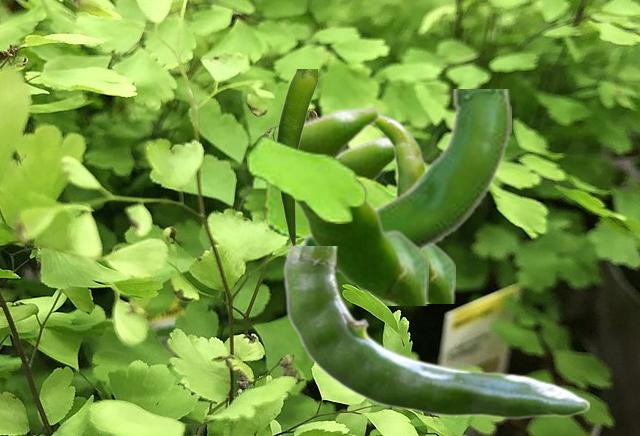green_chili: (283, 246, 588, 418), (300, 89, 510, 272), (297, 106, 427, 304), (341, 134, 454, 302), (276, 69, 316, 245), (374, 113, 426, 196)
